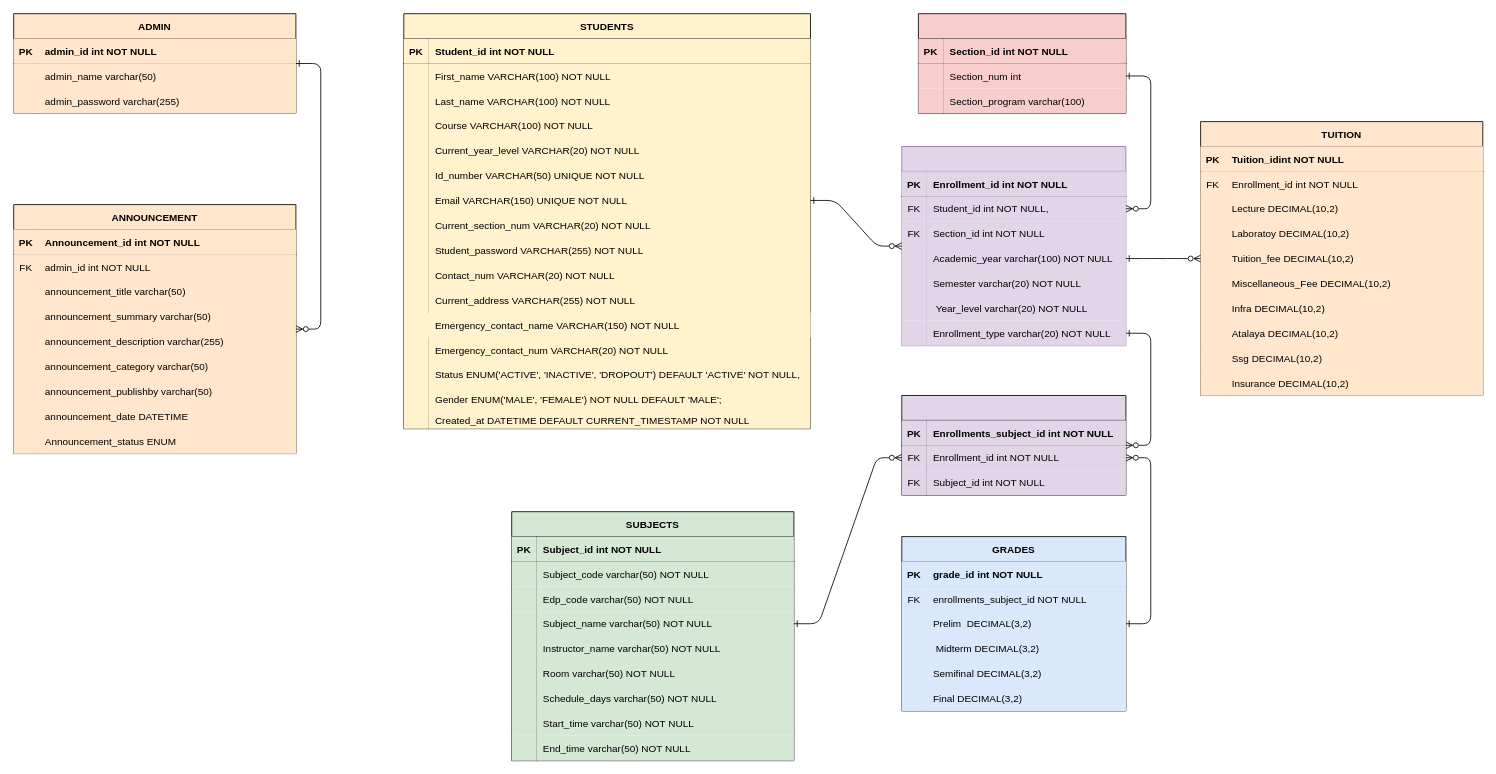
Image size: 1496x774. Some labels were removed from this diagram. Here are the shapes that lost their labels. From the top down, the box of each, then its label:
(918, 13, 1126, 113): SECTIONS
(901, 146, 1126, 346): ENROLLMENTS
(901, 395, 1126, 495): ENROLLMENTS_SUBJECTS
